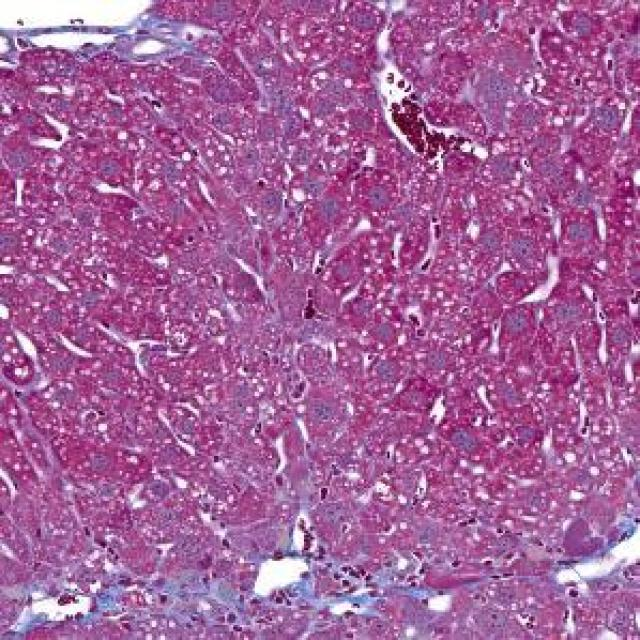fibrosis: (161, 537, 351, 623)
